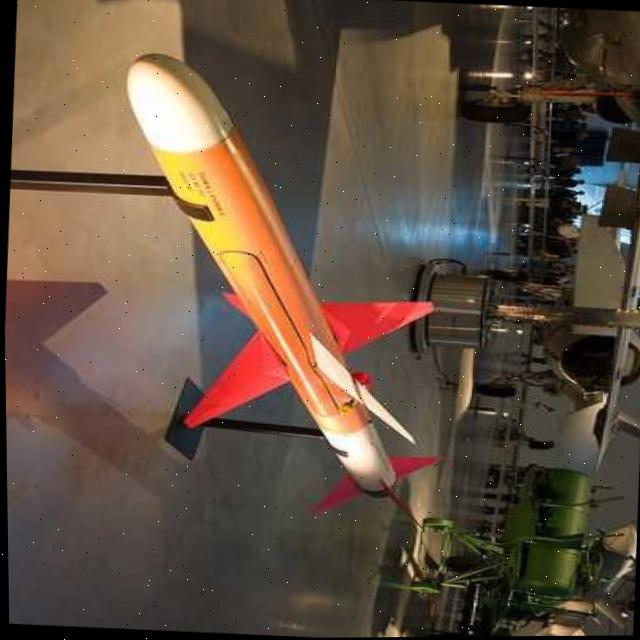missile: (107, 51, 461, 532)
